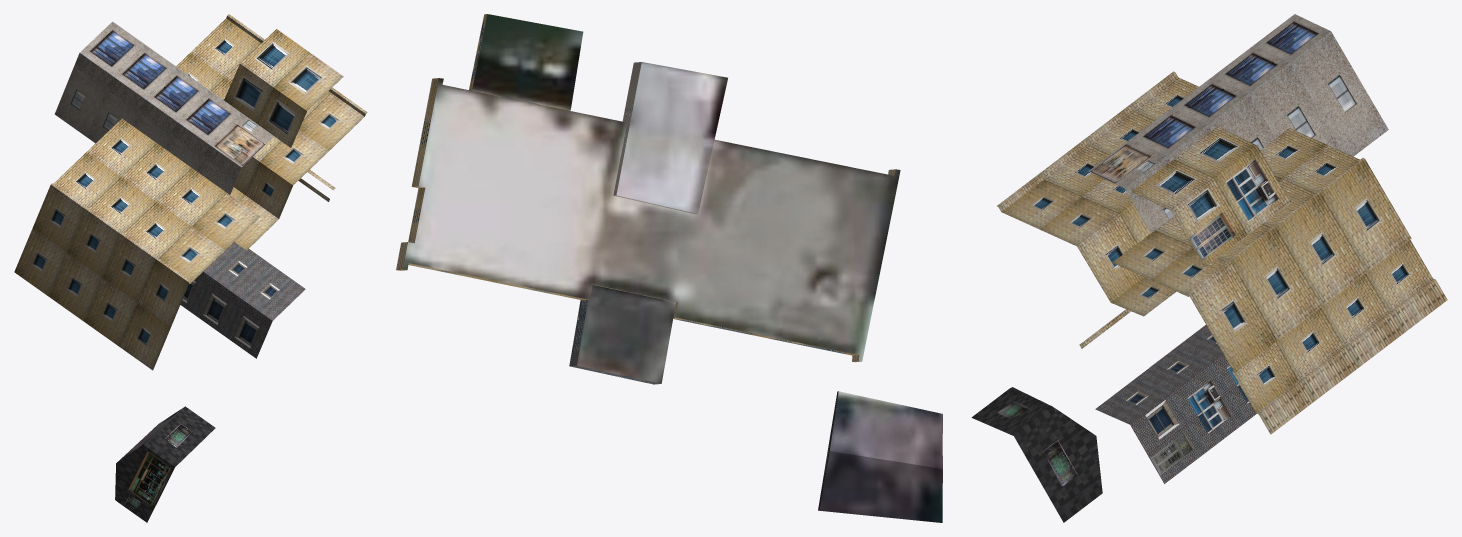
The picture shows the model from 3 angles, left to right: view 1: azimuth 30°, elevation 25°; view 2: azimuth 150°, elevation 25°; view 3: azimuth 270°, elevation 25°; orthographic projection. The views are drawn at different scales.
Size of the model in its own units: 29.85 by 34.07 by 28.47.
Materials: 21 (21 with a texture image).
